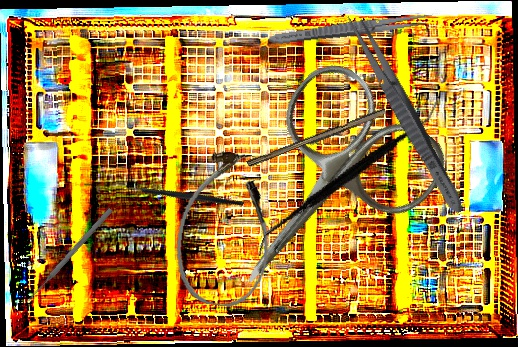Cannula: (169, 146, 282, 312)
Chopper: (119, 148, 245, 248)
Dressing Forceps: (340, 9, 471, 218), (265, 9, 435, 49)
Iris Scissors: (182, 51, 459, 334)
Pusher: (25, 206, 114, 304)
Scalpel Handle: (246, 105, 388, 172)
Spatula Surgical: (256, 59, 441, 297)
